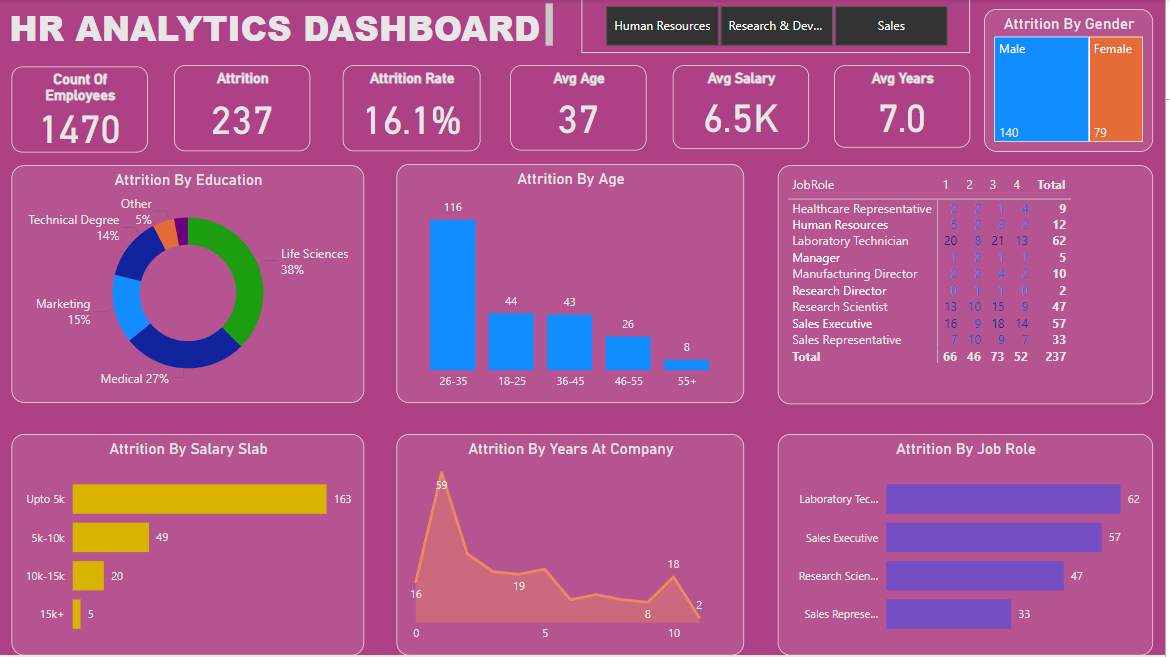

The page's visual inventory and layout, read from the dashboard file:
{"tool":"powerbi","page":{"name":"Page 1","canvas":[1280,720],"ordinal":0},"visuals":[{"type":"card","title":"Count Of Employees","fields":{"Values":["Count(HR_Analytics.EmpID)"]},"box":[13.7,74.1,149.6,94.7],"z":0},{"type":"card","title":"Attrition","fields":{"Values":["Sum(HR_Analytics.AttritionCount)"]},"box":[192.1,72.7,149.6,94.7],"z":1000},{"type":"card","title":"Attrition Rate","fields":{"Values":["HR_Analytics.Attrition_Rate"]},"box":[377.4,72.7,150.9,94.7],"z":2000},{"type":"card","title":"Avg Age","fields":{"Values":["Avg(HR_Analytics.Age)"]},"box":[561.2,72.7,149.6,93.3],"z":3000},{"type":"card","title":"Avg Salary","fields":{"Values":["Avg(HR_Analytics.MonthlyIncome)"]},"box":[739.6,72.7,149.6,91.9],"z":4000},{"type":"card","title":"Avg Years","fields":{"Values":["Avg(HR_Analytics.YearsAtCompany)"]},"box":[916.6,72.7,149.6,90.6],"z":5000},{"type":"donutChart","title":"Attrition By Education","fields":{"Category":["HR_Analytics.EducationField"],"Y":["Sum(HR_Analytics.AttritionCount)"]},"box":[13.7,182.5,387,260.7],"z":6000},{"type":"columnChart","title":"Attrition By Age","fields":{"Y":["Sum(HR_Analytics.AttritionCount)"],"Category":["HR_Analytics.AgeGroup"]},"box":[436.4,181.1,381.5,262.1],"z":7000},{"type":"pivotTable","fields":{"Rows":["HR_Analytics.JobRole"],"Columns":["HR_Analytics.JobSatisfaction"],"Values":["Sum(HR_Analytics.AttritionCount)"]},"box":[854.9,182.5,411.7,262.1],"z":8000},{"type":"barChart","title":"Attrition By Salary Slab","fields":{"Category":["HR_Analytics.SalarySlab"],"Y":["Sum(HR_Analytics.AttritionCount)"]},"box":[13.7,477.5,387,242.9],"z":9000},{"type":"barChart","title":"Attrition By Job Role","fields":{"Category":["HR_Analytics.JobRole"],"Y":["Sum(HR_Analytics.AttritionCount)"]},"box":[854.9,477.5,411.7,242.9],"z":10000},{"type":"areaChart","title":"Attrition By Years At Company","fields":{"Category":["HR_Analytics.YearsAtCompany"],"Y":["Sum(HR_Analytics.AttritionCount)"]},"box":[436.4,477.5,381.5,242.9],"z":11000},{"type":"treemap","title":"Attrition By Gender","fields":{"Values":["Sum(HR_Analytics.AttritionCount)"],"Group":["HR_Analytics.Gender"]},"box":[1081.3,11,185.2,156.4],"z":12000},{"type":"slicer","fields":{"Values":["HR_Analytics.Department"]},"box":[639.5,0,426.8,59],"z":13000},{"type":"textbox","box":[0,0,613.4,59],"z":14000}]}

Visuals, with their boxes in screenshot pixels (x1, y1, x2, y2), scaled from the page's 1280x720 canvas onto the 1170x657 screenshot:
"Count Of Employees" card: <box>13,68,149,154</box>
"Attrition" card: <box>176,66,312,153</box>
"Attrition Rate" card: <box>345,66,483,153</box>
"Avg Age" card: <box>513,66,650,151</box>
"Avg Salary" card: <box>676,66,813,150</box>
"Avg Years" card: <box>838,66,975,149</box>
"Attrition By Education" donutChart: <box>13,167,366,404</box>
"Attrition By Age" columnChart: <box>399,165,748,404</box>
pivotTable - HR_Analytics.JobRole x HR_Analytics.JobSatisfaction: <box>781,167,1158,406</box>
"Attrition By Salary Slab" barChart: <box>13,436,366,656</box>
"Attrition By Job Role" barChart: <box>781,436,1158,656</box>
"Attrition By Years At Company" areaChart: <box>399,436,748,656</box>
"Attrition By Gender" treemap: <box>988,10,1158,153</box>
slicer - HR_Analytics.Department: <box>585,0,975,54</box>
textbox: <box>0,0,561,54</box>
